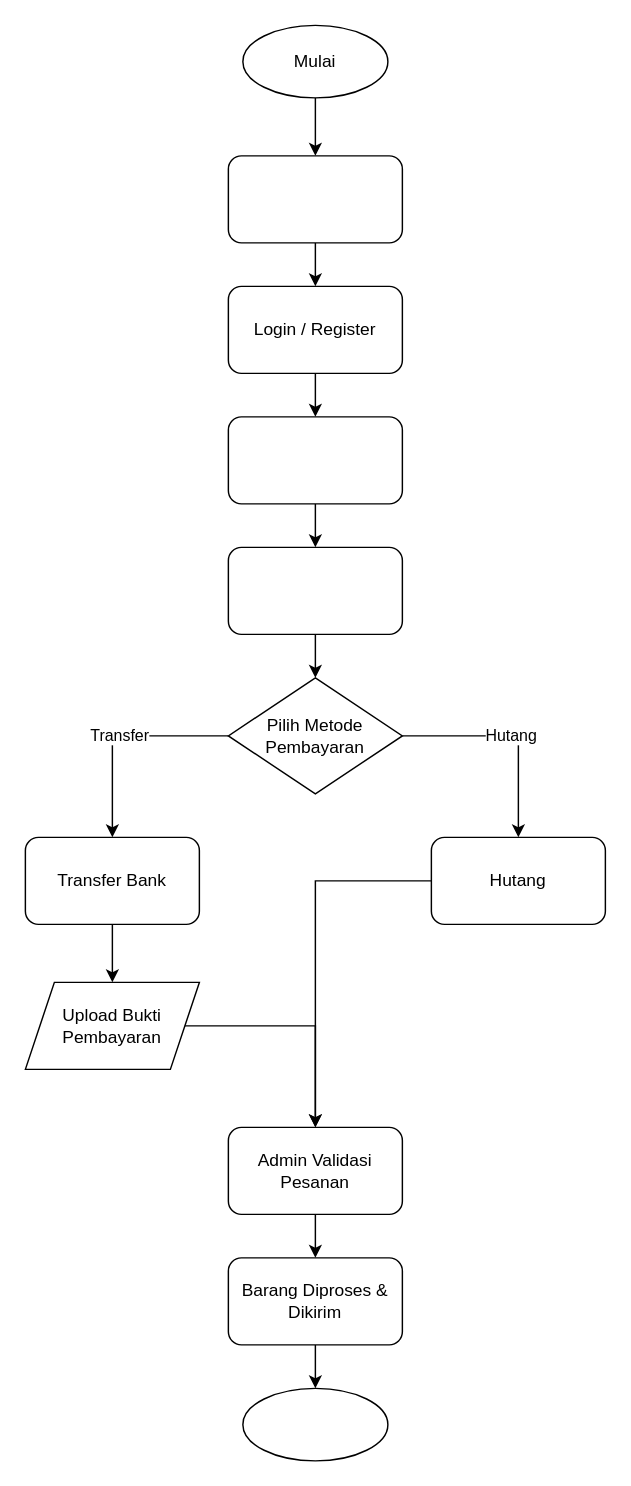
This 631x1486 diagram has some shape labels left out. The shapes that lost their labels are listed below. From the top down, each one's centre as x and y in pixels, then its label:
At (314,198): "Buka Website".
At (314,459): "Pilih Produk & Masuk Keranjang".
At (314,590): "Checkout".
At (314,1424): "Selesai".
